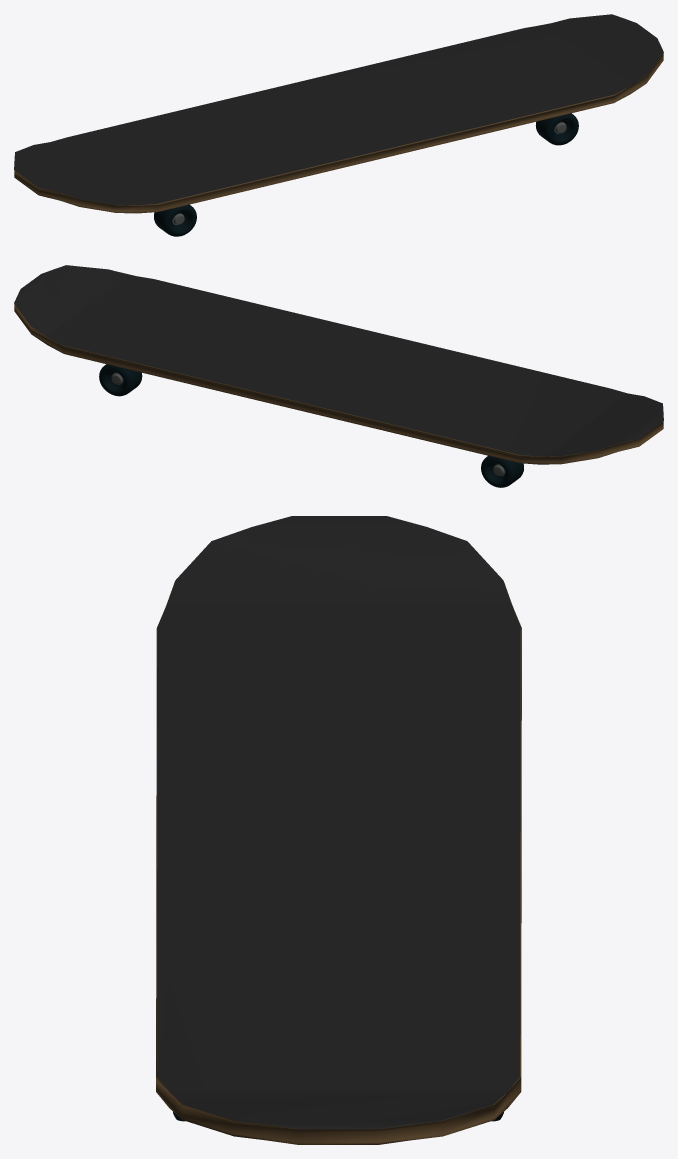
Rendered from SkateBoard.gltf.
3 views of the same model, one above another, from view 1: azimuth 30°, elevation 25°; view 2: azimuth 150°, elevation 25°; view 3: azimuth 270°, elevation 25° (orthographic). The views are drawn at different scales.
Visible parts, largest first — view 1: Plane.005, Circle.017, Circle.025; view 2: Plane.005, Circle.008, Circle.018; view 3: Plane.005.
Boxes of the visible parts, x1=… form: Plane.005: x1=14, y1=14, x2=663, y2=213; Circle.017: x1=535, y1=113, x2=578, y2=145; Circle.025: x1=154, y1=204, x2=196, y2=236; Plane.005: x1=14, y1=265, x2=663, y2=464; Circle.008: x1=99, y1=364, x2=142, y2=396; Circle.018: x1=481, y1=455, x2=523, y2=487; Plane.005: x1=156, y1=516, x2=521, y2=1144.
Size of the model in its own units: 8.3 by 0.7497 by 2.12.
